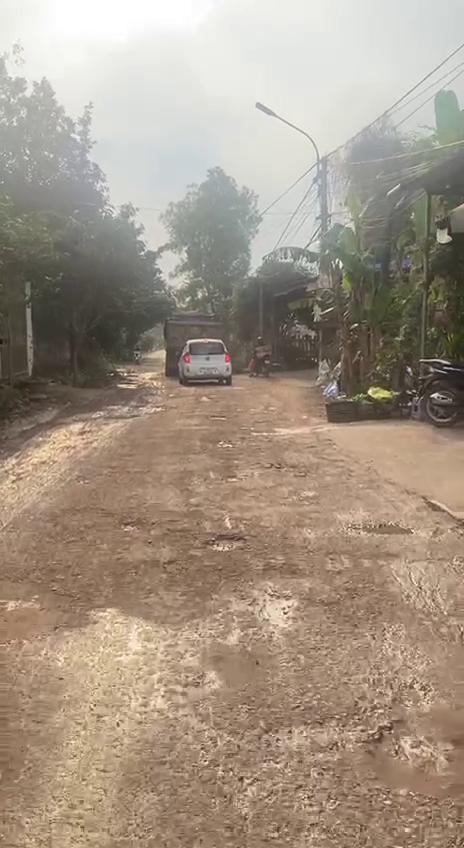pothole: (353, 710, 464, 784), (250, 582, 302, 638), (202, 532, 251, 554), (350, 522, 417, 538)
